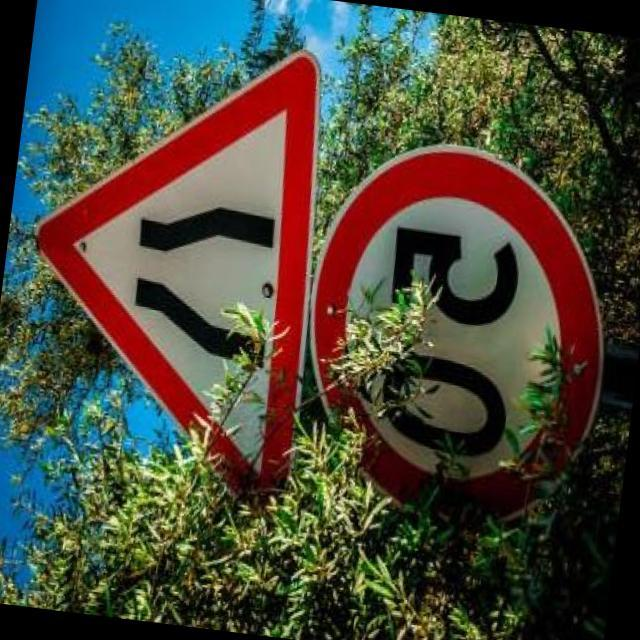obstructed_road_sign: (39, 52, 318, 492), (312, 148, 602, 514)
